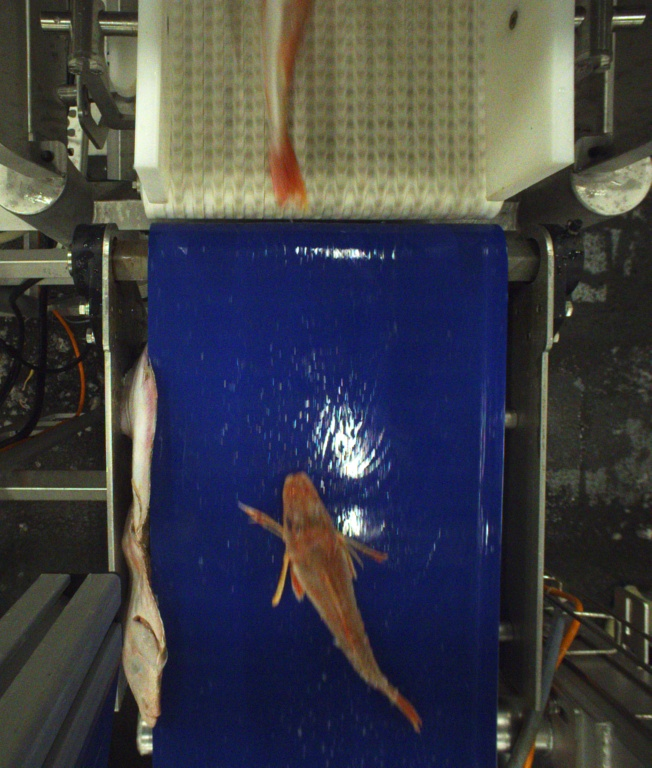GUU: (240, 473, 421, 732)
